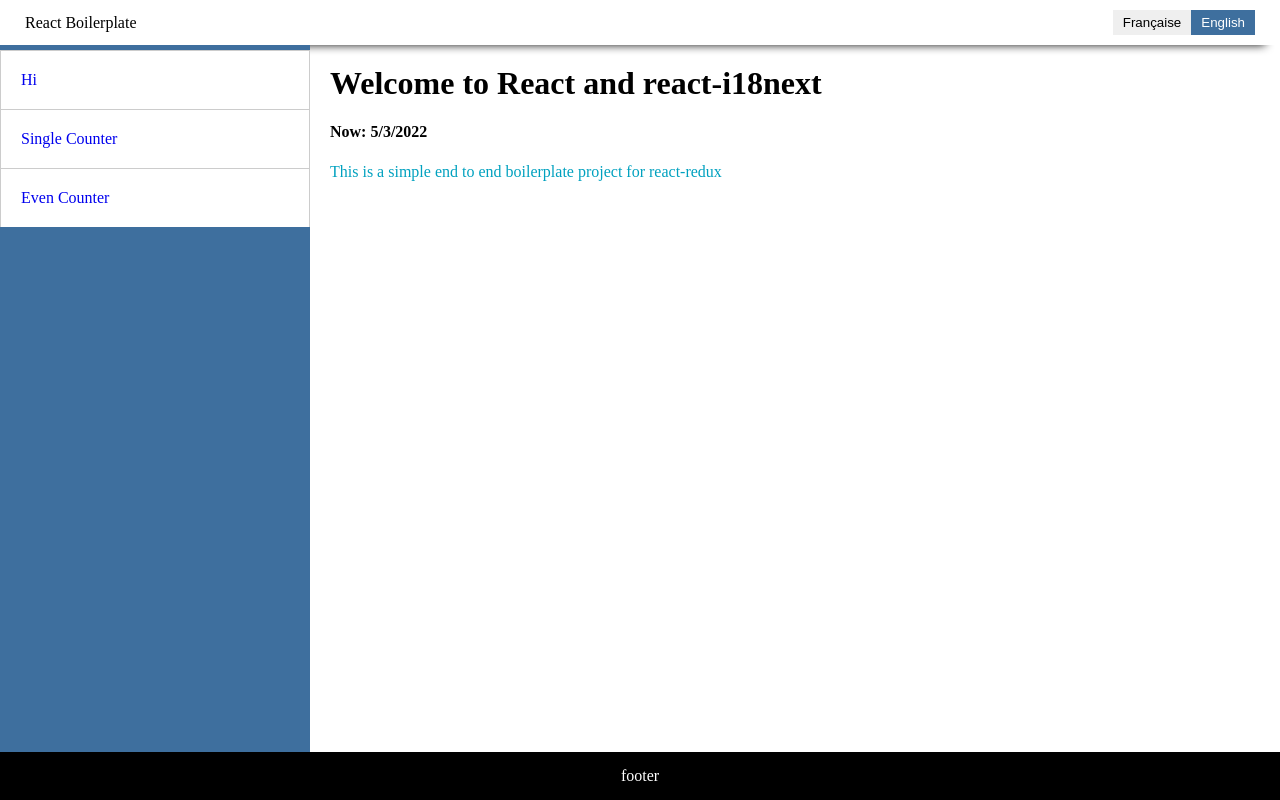
it: Homepage › Load Single Counter
This screenshot has width=1280, height=800.
Click the link "Single Counter". click: (69, 139)
box: left=21, top=130, right=117, bottom=147
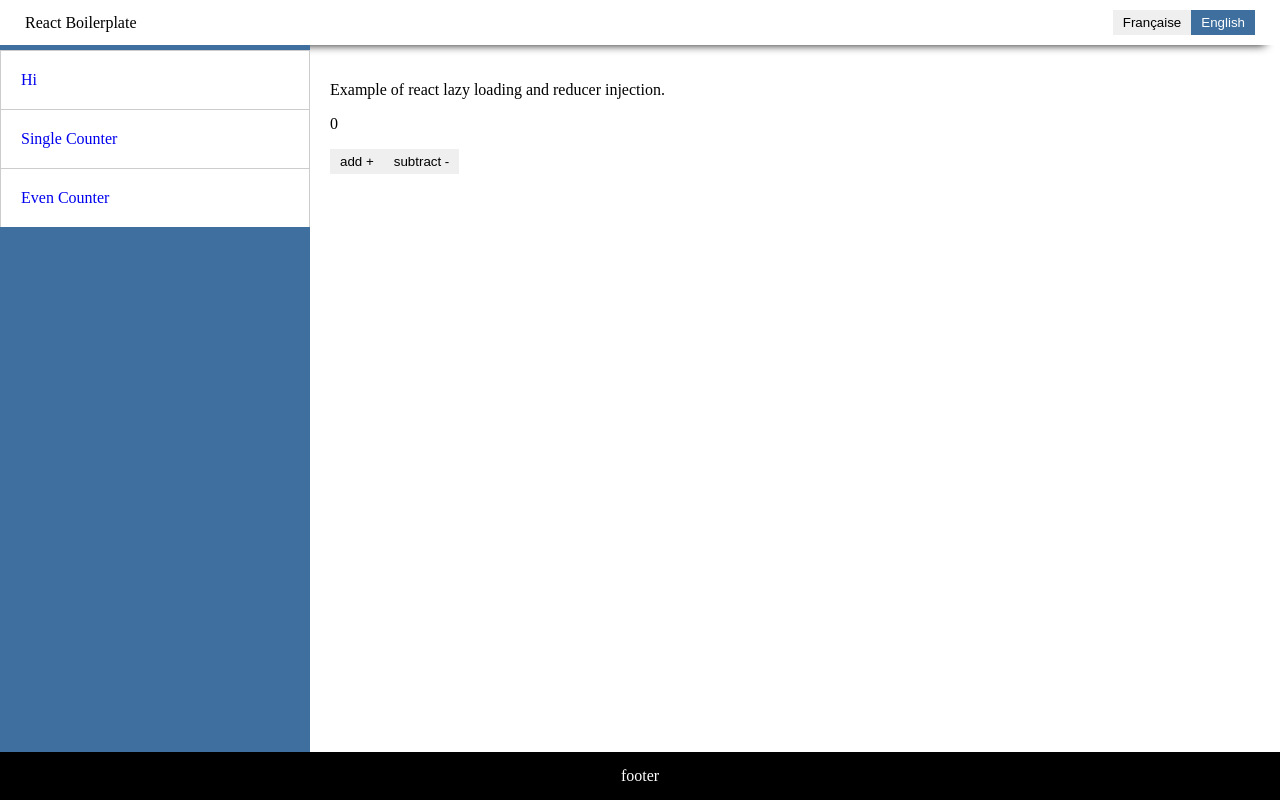
Result: the button "add +" is shown at left=330, top=149, right=384, bottom=174
